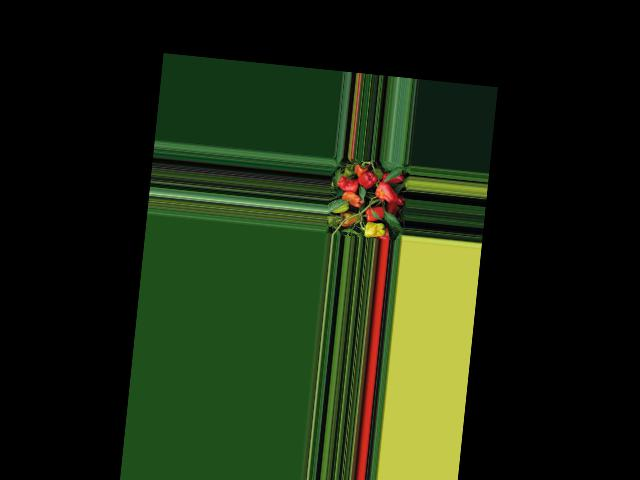bell_pepper: (353, 162, 365, 176)
